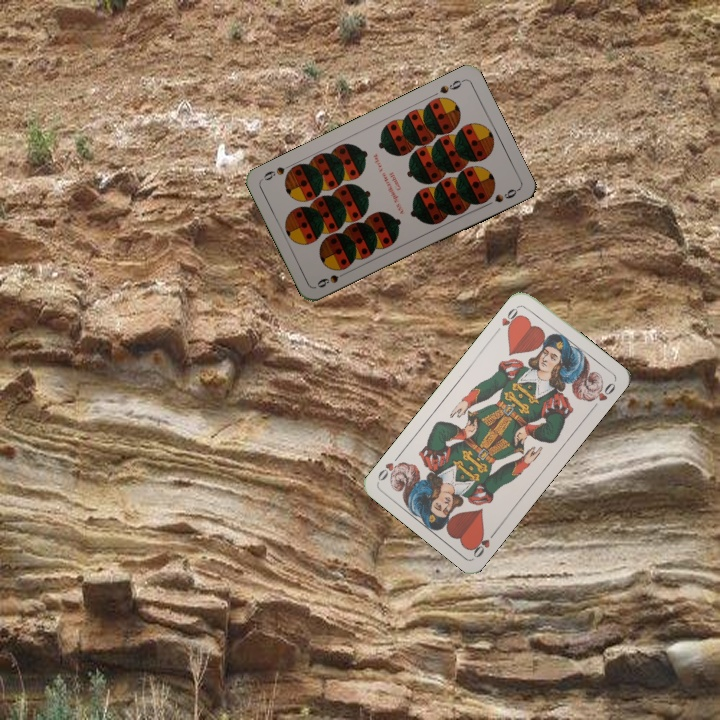HO: (467, 526, 500, 560), (492, 302, 524, 336)
S9: (313, 267, 351, 290), (436, 75, 467, 96)
